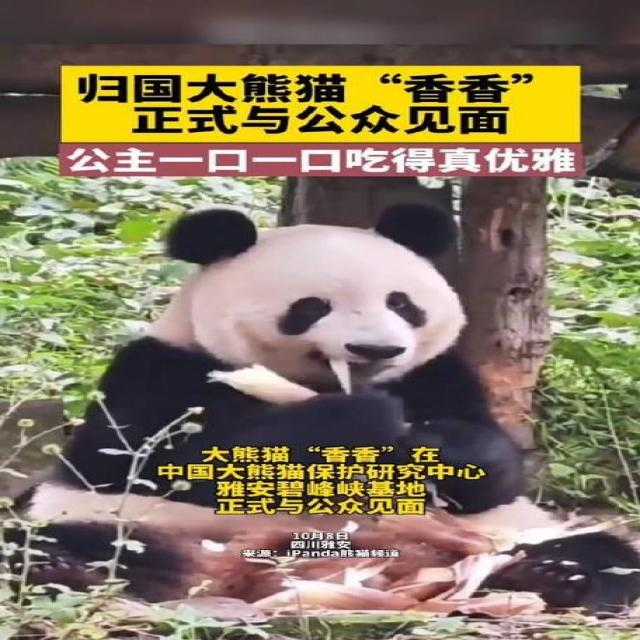panda: (61, 212, 557, 547)
